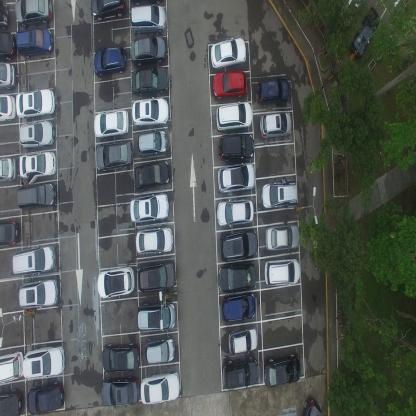car: (22, 342, 65, 380), (140, 369, 182, 406), (12, 242, 56, 276), (352, 6, 380, 59), (19, 277, 59, 311), (129, 191, 170, 224), (96, 265, 135, 299), (220, 227, 256, 263), (265, 352, 301, 388), (219, 164, 257, 198), (223, 357, 261, 391), (16, 26, 54, 60), (129, 35, 167, 68), (102, 376, 141, 408), (18, 150, 57, 182), (16, 87, 56, 118), (93, 107, 130, 140), (139, 258, 177, 290), (103, 343, 141, 375), (95, 140, 134, 171), (262, 181, 298, 214), (222, 290, 258, 323), (210, 37, 247, 69), (130, 4, 167, 36), (28, 383, 65, 415), (215, 101, 253, 132), (138, 300, 177, 330), (135, 226, 175, 255), (16, 180, 56, 209), (131, 97, 170, 126), (93, 44, 127, 77), (263, 257, 300, 287), (218, 134, 255, 164), (217, 265, 257, 292), (132, 66, 168, 96), (217, 198, 254, 227), (212, 70, 247, 100), (15, 0, 52, 28), (256, 77, 290, 107), (134, 160, 170, 188), (18, 121, 55, 148), (260, 110, 292, 140), (264, 228, 299, 255), (230, 326, 260, 356), (146, 336, 176, 366), (137, 129, 167, 159), (0, 349, 23, 386), (91, 0, 126, 23), (0, 388, 23, 416), (0, 219, 20, 246), (0, 28, 16, 61), (0, 92, 17, 122), (0, 61, 16, 92), (0, 152, 16, 183), (301, 396, 322, 415)
